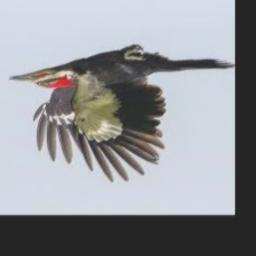Woodpecker: (7, 44, 234, 183)
